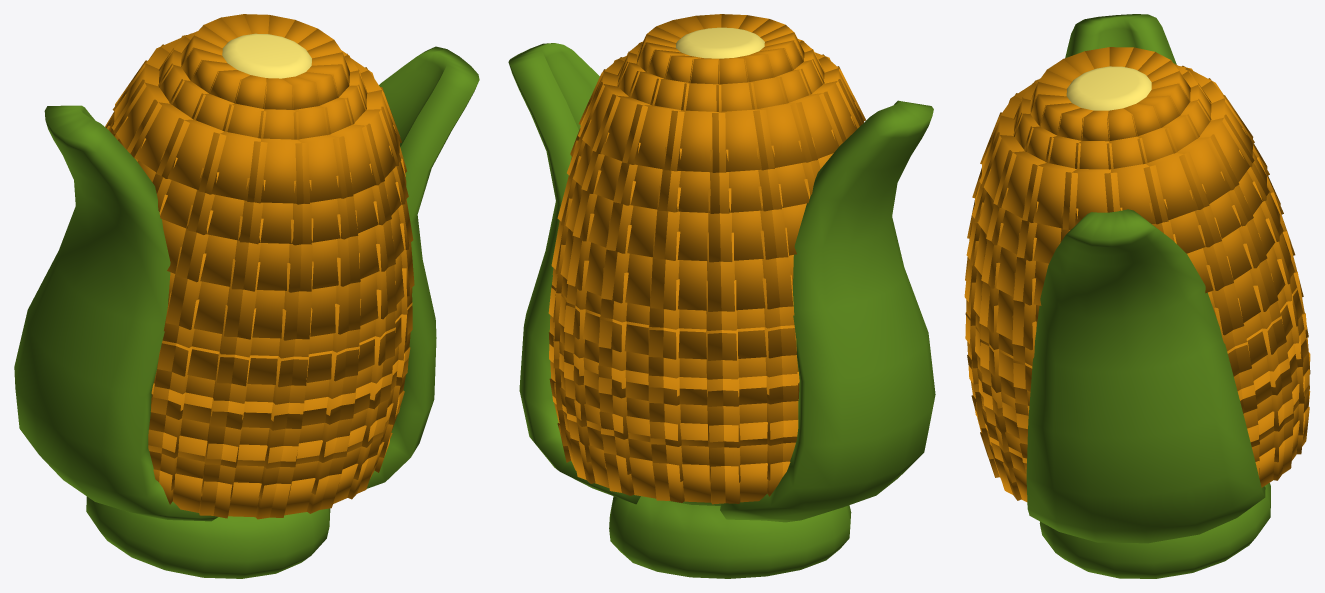
Rendered from Corn.glb.
The picture shows the model from 3 angles, left to right: view 1: azimuth 30°, elevation 25°; view 2: azimuth 150°, elevation 25°; view 3: azimuth 270°, elevation 25°; orthographic projection. The views are drawn at different scales.
Parts seen in each view (by area): view 1: Corn; view 2: Corn; view 3: Corn.
Boxes of the visible parts, x1,y1,x2,y2 form: Corn: (14,14,479,578); Corn: (508,14,935,578); Corn: (964,14,1310,578).
Size of the model in its own units: 6.95 by 8.09 by 5.26.
